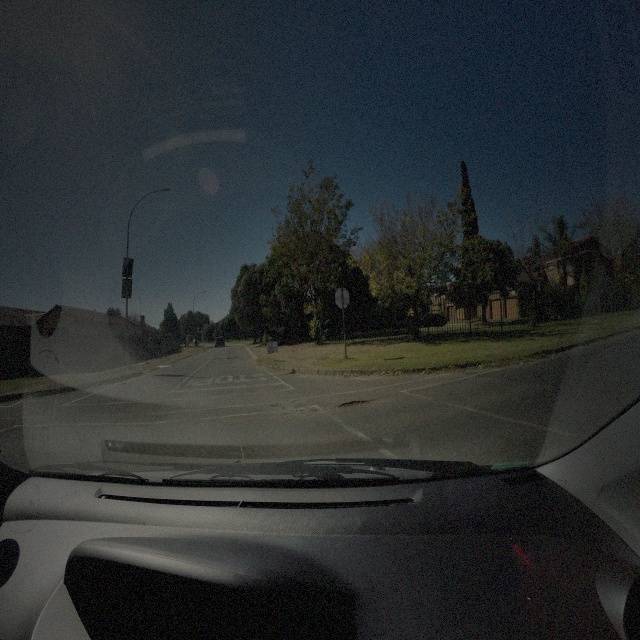pothole: (339, 400, 369, 407), (269, 401, 278, 410)
